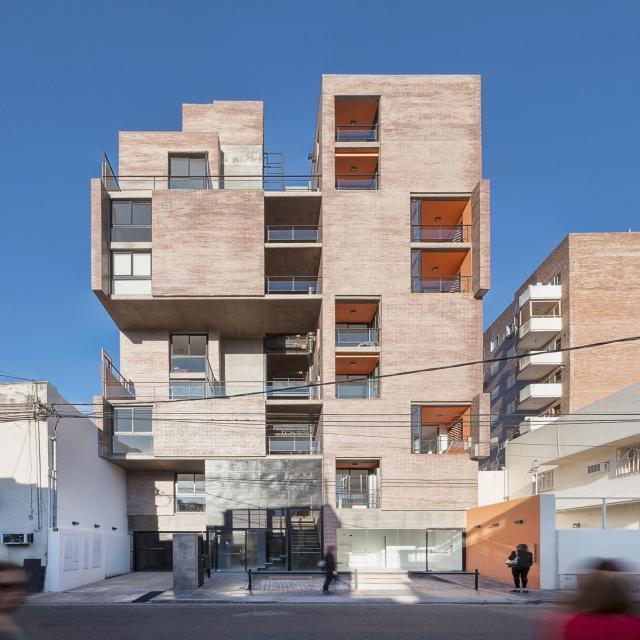Railing: (106, 174, 319, 192), (104, 386, 317, 398), (410, 224, 474, 242), (413, 435, 470, 454), (412, 276, 471, 294), (265, 225, 323, 243), (265, 276, 323, 294), (266, 437, 320, 455), (336, 490, 380, 508), (334, 124, 380, 141), (336, 328, 378, 346), (335, 380, 380, 396), (336, 174, 381, 190)
door: (428, 527, 467, 572), (215, 528, 248, 572)
wall: (89, 74, 490, 591)
windows: (229, 510, 323, 572), (338, 528, 428, 572), (110, 199, 153, 242), (114, 251, 152, 295), (134, 531, 172, 571), (172, 333, 206, 371), (174, 473, 205, 511), (169, 156, 203, 188), (334, 374, 370, 380), (336, 323, 370, 328)
